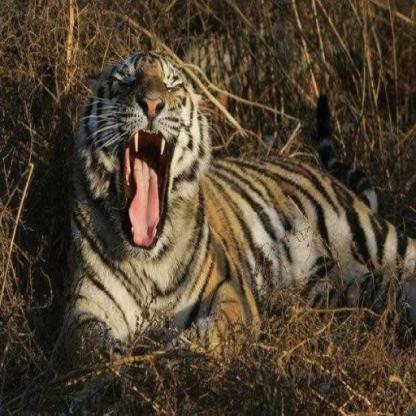Tiger: (54, 27, 416, 362)
